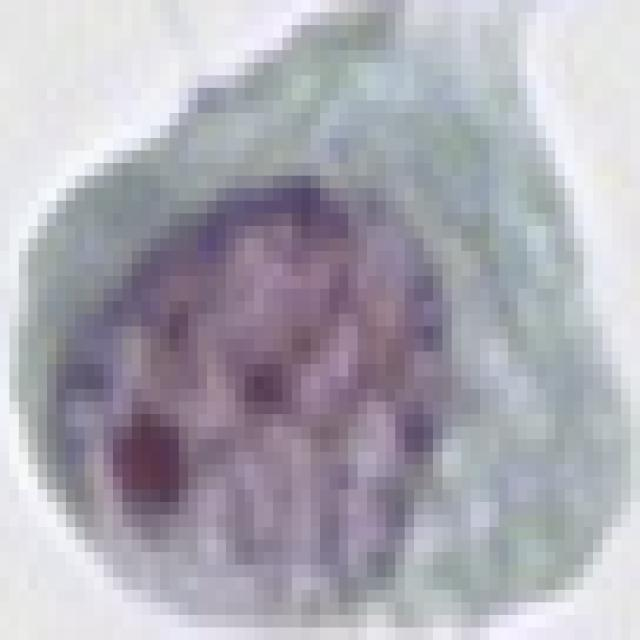nucleus: (4, 122, 517, 640)
